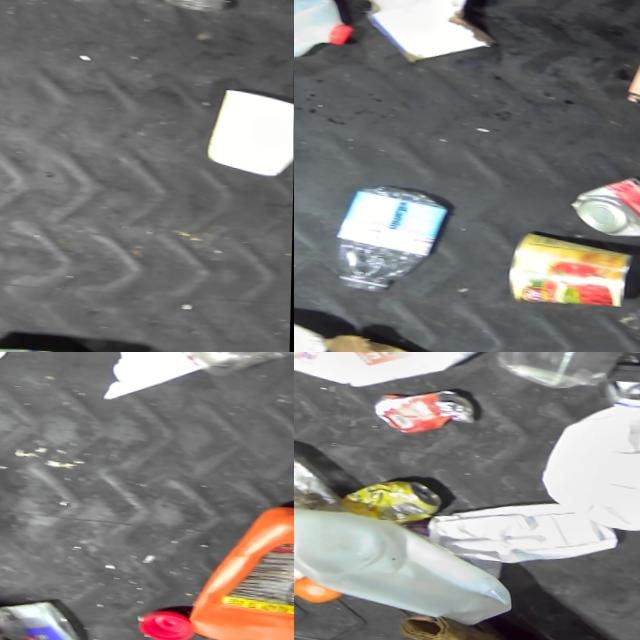can: (507, 220, 640, 301), (377, 378, 475, 431), (349, 469, 449, 519), (570, 160, 640, 226)
milk_jug: (294, 487, 497, 614), (540, 371, 640, 530)
non_white_jug: (187, 494, 294, 640), (297, 352, 501, 382)
plastic_bottle: (330, 166, 459, 287)
